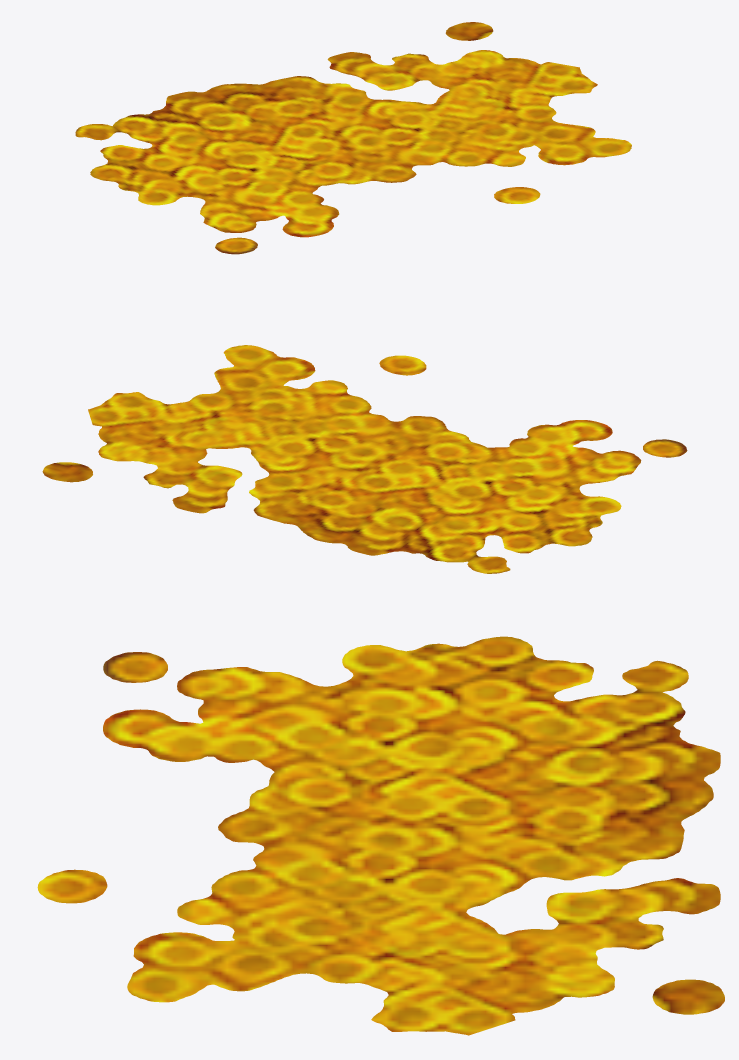
File: gold_3.FBX
3 views of the same model, one above another, from view 1: azimuth 30°, elevation 25°; view 2: azimuth 150°, elevation 25°; view 3: azimuth 270°, elevation 25° (orthographic). The views are drawn at different scales.
Visible parts, largest first — view 1: Object487; view 2: Object487; view 3: Object487.
Part boxes in pixels (x1,y1,x2,y2): Object487: [75, 22, 631, 254]; Object487: [42, 345, 687, 573]; Object487: [37, 636, 724, 1035].
Bounding box in the file's own units: 77.54 × 3.39e-15 × 55.41.
